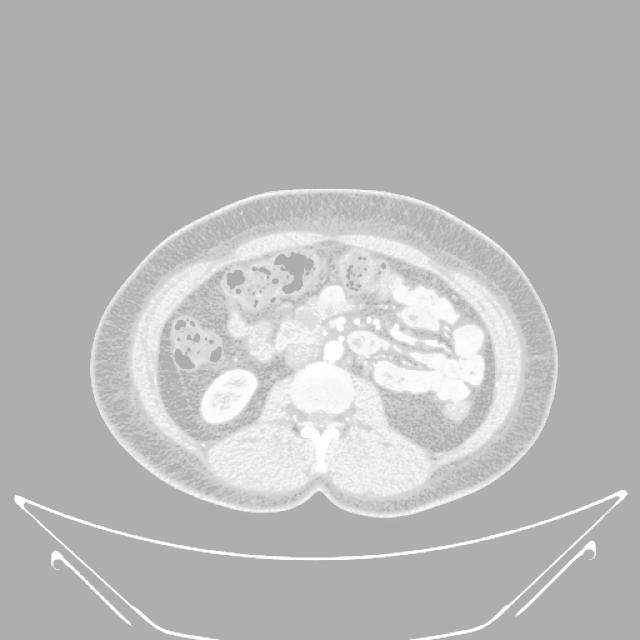NORMAL: (63, 189, 573, 503)
